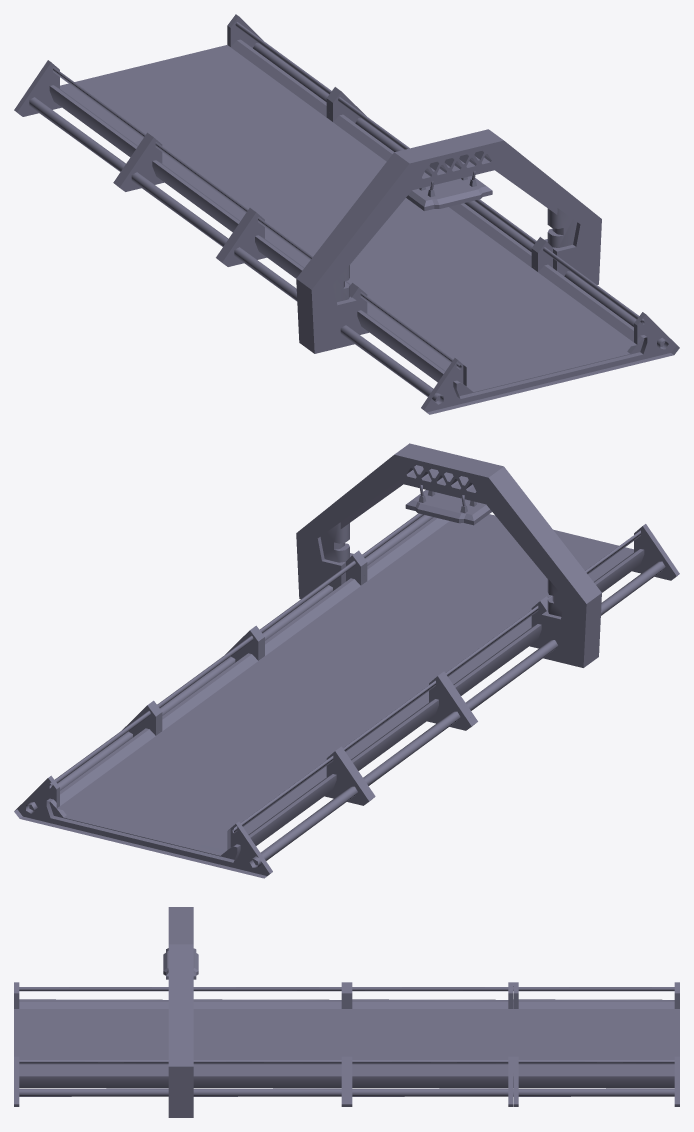
The model's file is RacetrackStraight 1.fbx.
3 renders of one model, top to bottom at view 1: azimuth 30°, elevation 25°; view 2: azimuth 150°, elevation 25°; view 3: azimuth 270°, elevation 25°, orthographic. The views are drawn at different scales.
Visible parts, largest first — view 1: PathNormal, Frames, LampFrame; view 2: PathNormal, Frames, LampFrame; view 3: PathNormal, Frames, LampFrame.
Part boxes in pixels (x1=…): PathNormal: x1=49, y1=39, x2=647, y2=398; Frames: x1=14, y1=14, x2=679, y2=414; LampFrame: x1=296, y1=129, x2=601, y2=353; PathNormal: x1=46, y1=514, x2=644, y2=862; Frames: x1=14, y1=513, x2=679, y2=878; LampFrame: x1=296, y1=443, x2=601, y2=667; PathNormal: x1=14, y1=1000, x2=679, y2=1087; Frames: x1=14, y1=982, x2=679, y2=1106; LampFrame: x1=163, y1=907, x2=198, y2=1117.
Size of the model in its own units: 4089 by 2252 by 10000.
